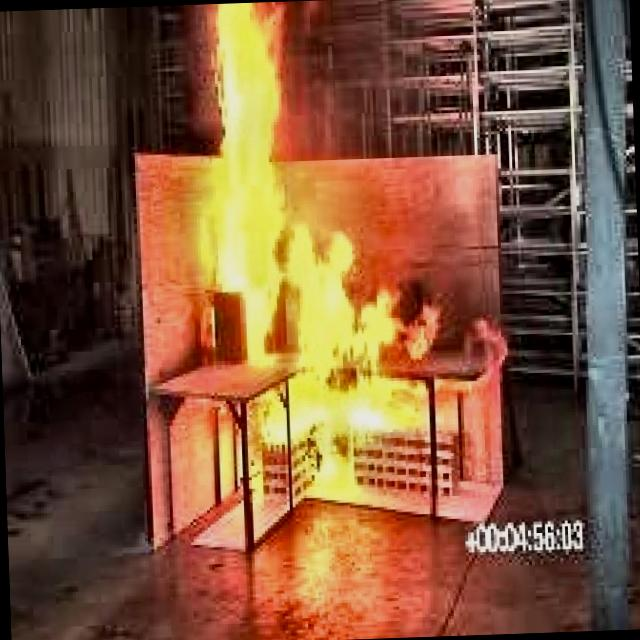fire: (120, 0, 515, 523)
